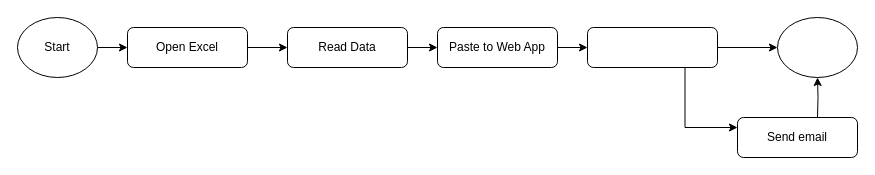
Image size: 875x175. Some labels were removed from this diagram. The shapes that lost their labels are listed below. From the top down, each one's centre as x and y in pixels, then its label:
the point at 652,47: Notification about result and saving data
the point at 817,47: End
